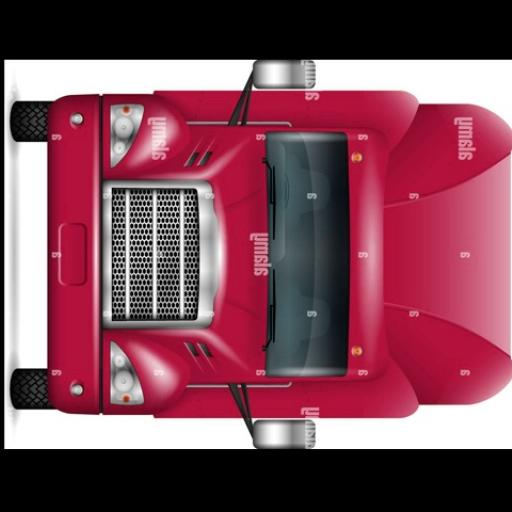truck: (4, 62, 512, 448)
